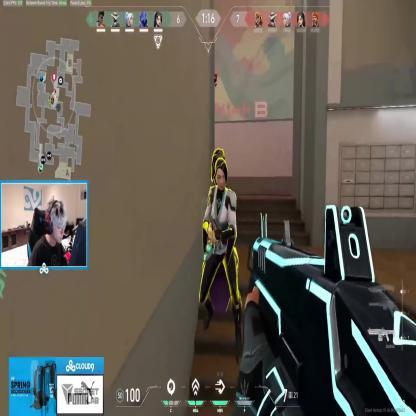enemy: (198, 150, 244, 364)
enemy_head: (214, 158, 228, 190)
